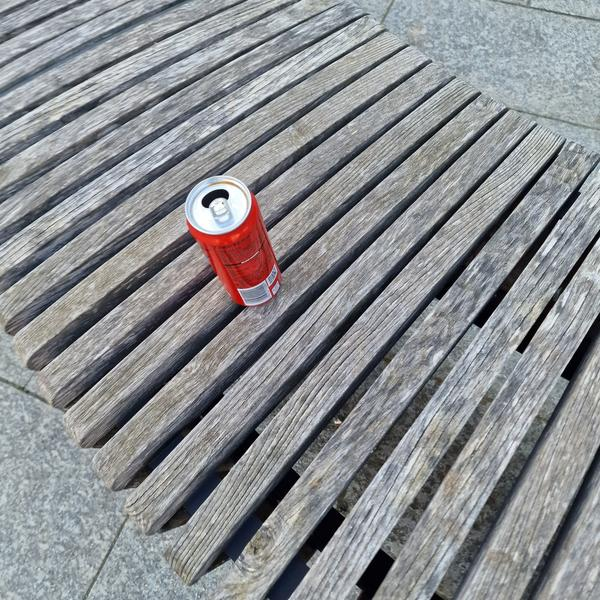can: (171, 162, 299, 320)
